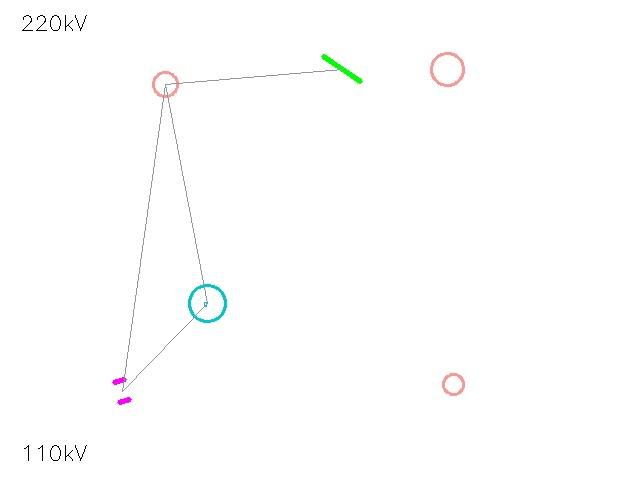busbar: (314, 41, 370, 97)
capacitor: (105, 374, 139, 408)
current_transformer: (414, 36, 480, 102)
generator: (189, 285, 225, 321)
reactor: (141, 60, 189, 108)
surge_arrester: (432, 363, 474, 405)
